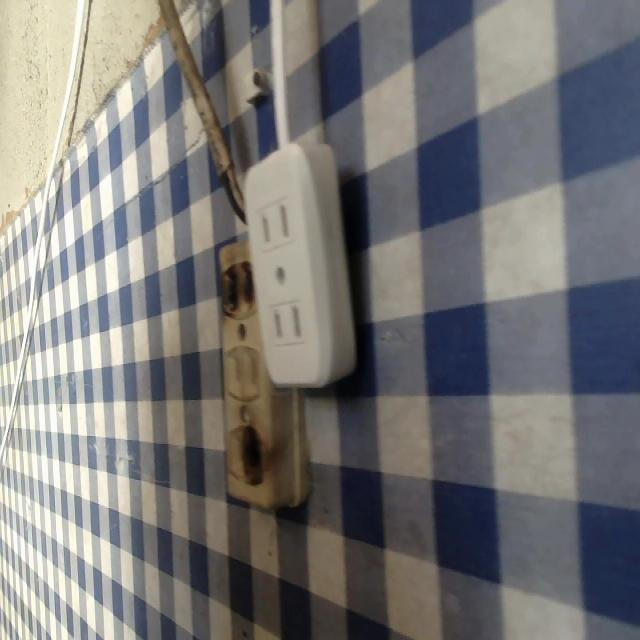-: (218, 262, 253, 318), (241, 427, 266, 488)
